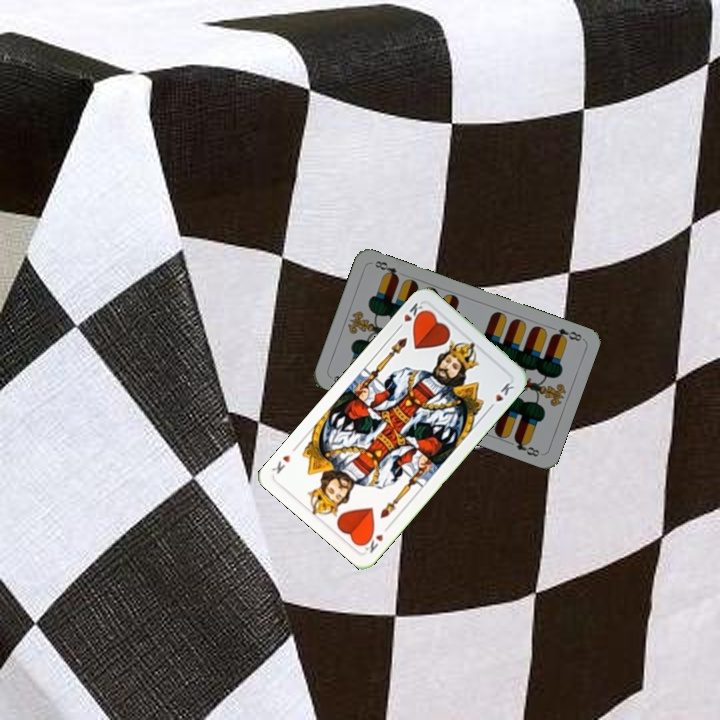E8: (547, 324, 584, 344)
HK: (359, 521, 393, 556), (393, 299, 428, 333)
